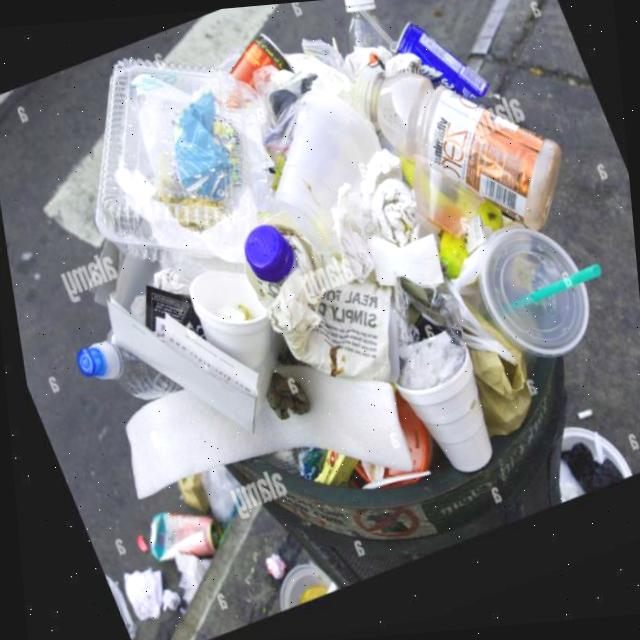Garbage: (125, 0, 640, 640), (0, 0, 347, 589)
Plastic_Container: (92, 58, 254, 268)
Plastic_bottle: (352, 69, 557, 232), (268, 91, 377, 253), (473, 227, 583, 359), (101, 331, 174, 400), (239, 225, 289, 283)
